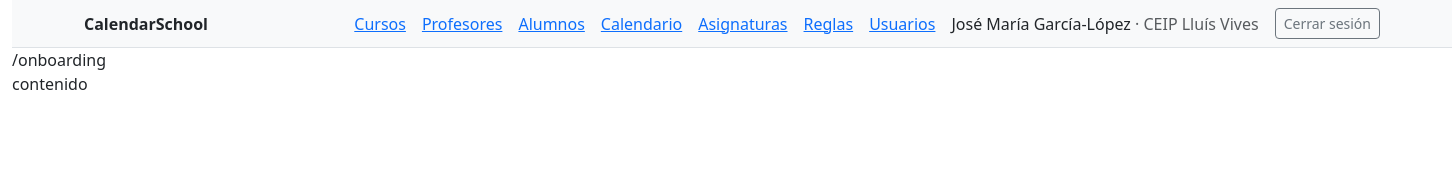
Scenario: AppHeader › logging out › keeps the session and the page, and shows an alert, when the logout is not confirmed
Click the button "Cerrar sesión" at (1327, 24), box [1275,8,1380,39]
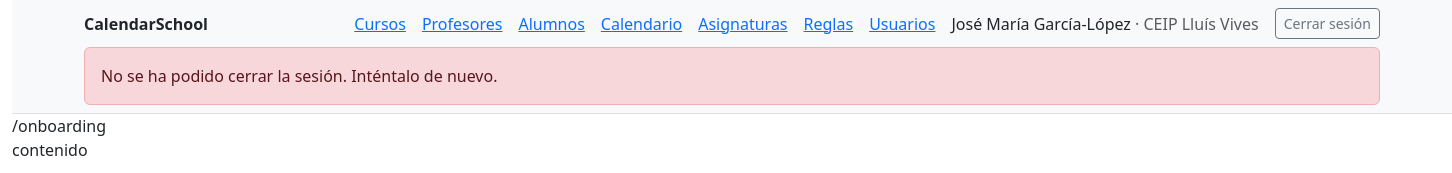
Expected: the text with test id "path" reads "/onboarding", [12,115,106,137]
Now the message reads "No se ha podido cerrar la sesión. Inténtalo de nuevo.", box [101,65,498,87]
